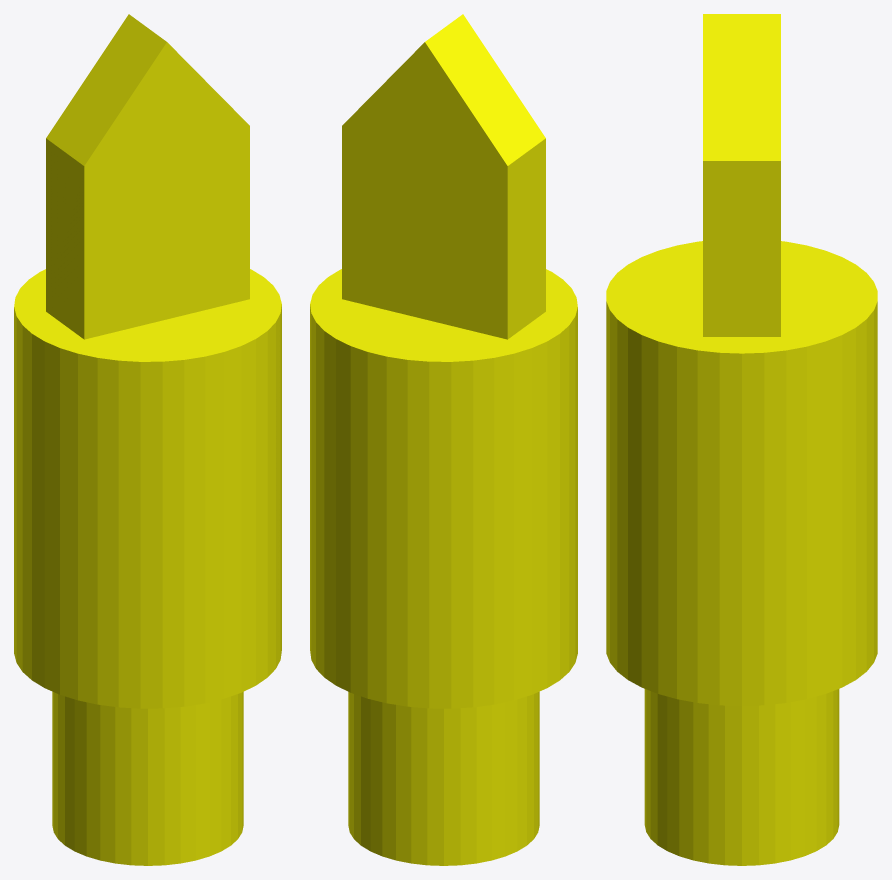
File: Herramienta.dae
3 views of the same model, side by side, from view 1: azimuth 30°, elevation 25°; view 2: azimuth 150°, elevation 25°; view 3: azimuth 270°, elevation 25° (orthographic).
Parts seen in each view (by area): view 1: EfectorFinal; view 2: EfectorFinal; view 3: EfectorFinal.
Boxes of the visible parts, x1,y1,x2,y2 form: EfectorFinal: (14, 14, 281, 865); EfectorFinal: (310, 14, 577, 865); EfectorFinal: (606, 14, 877, 865).
Bounding box in the file's own units: 0.007 × 0.00698 × 0.023.
